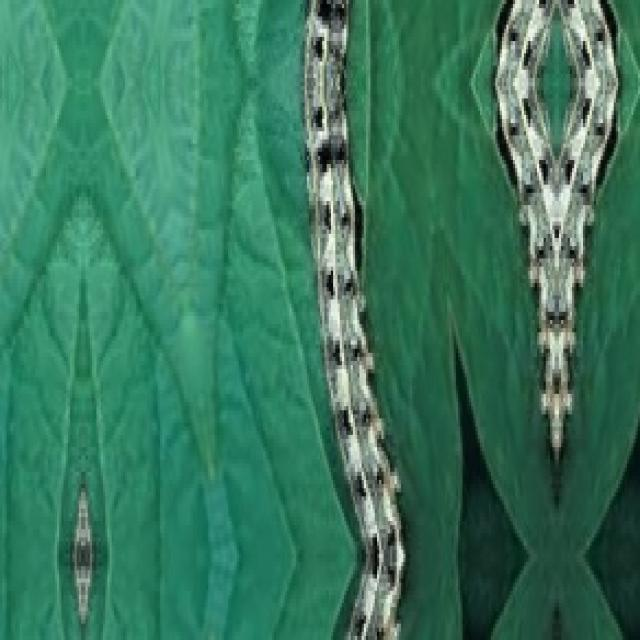armyworm: (300, 0, 406, 636), (491, 0, 620, 464)
